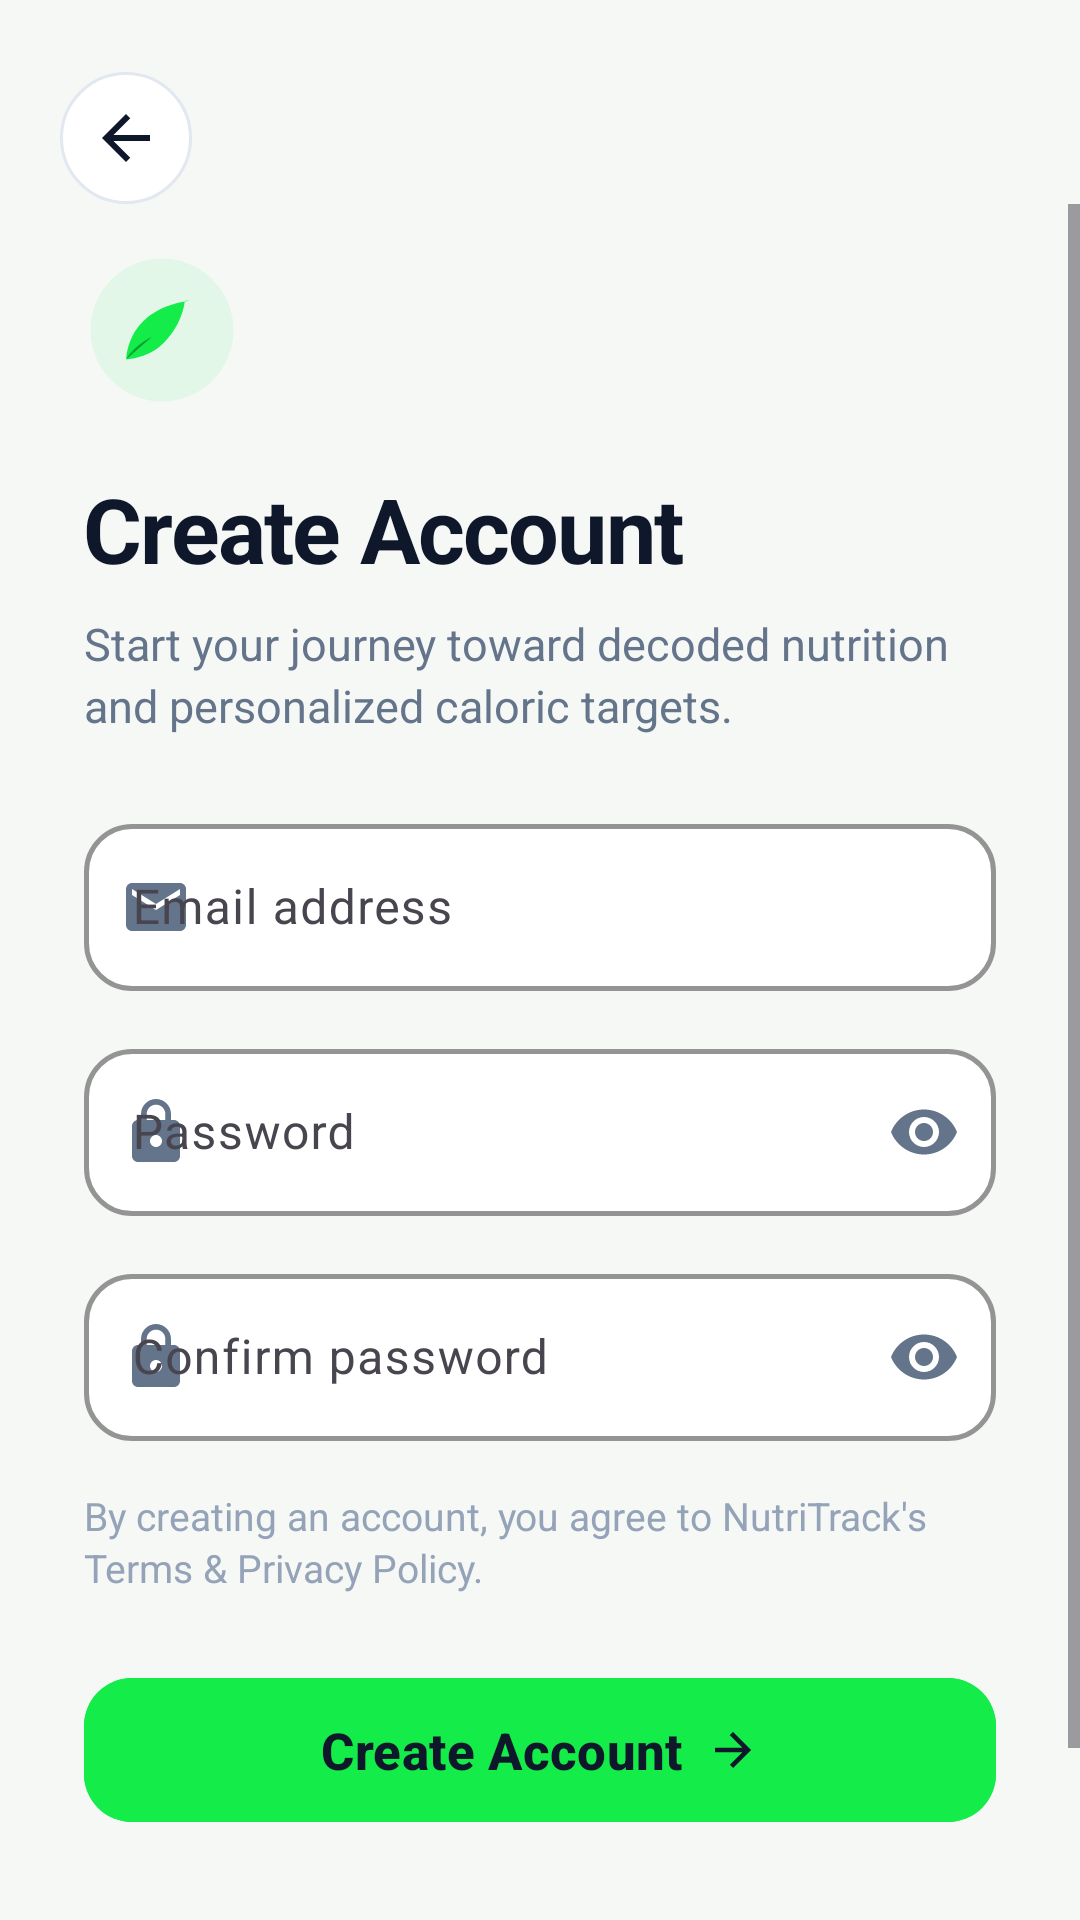

Icon click points for this 1080×1920 phone screenshot, format (x=x, y=y):
Back: (x=126, y=138)
